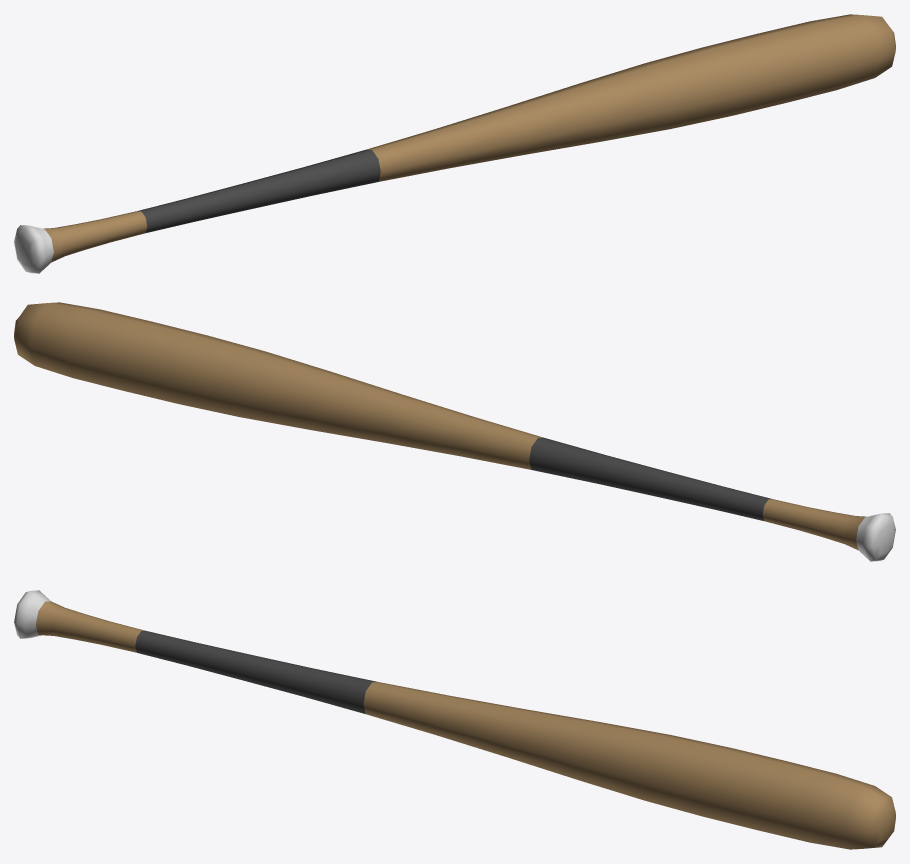
File: Baseball_Bat.fbx
The picture shows the model from 3 angles, top to bottom: view 1: azimuth 30°, elevation 25°; view 2: azimuth 150°, elevation 25°; view 3: azimuth 330°, elevation 25°; orthographic projection.
Parts seen in each view (by area): view 1: Baseball_Bat; view 2: Baseball_Bat; view 3: Baseball_Bat.
Boxes of the visible parts, x1=… form: Baseball_Bat: x1=14, y1=14, x2=895, y2=273; Baseball_Bat: x1=14, y1=302, x2=895, y2=561; Baseball_Bat: x1=14, y1=590, x2=895, y2=849.
Bounding box in the file's own units: 0.965 × 0.0724 × 0.0724.
